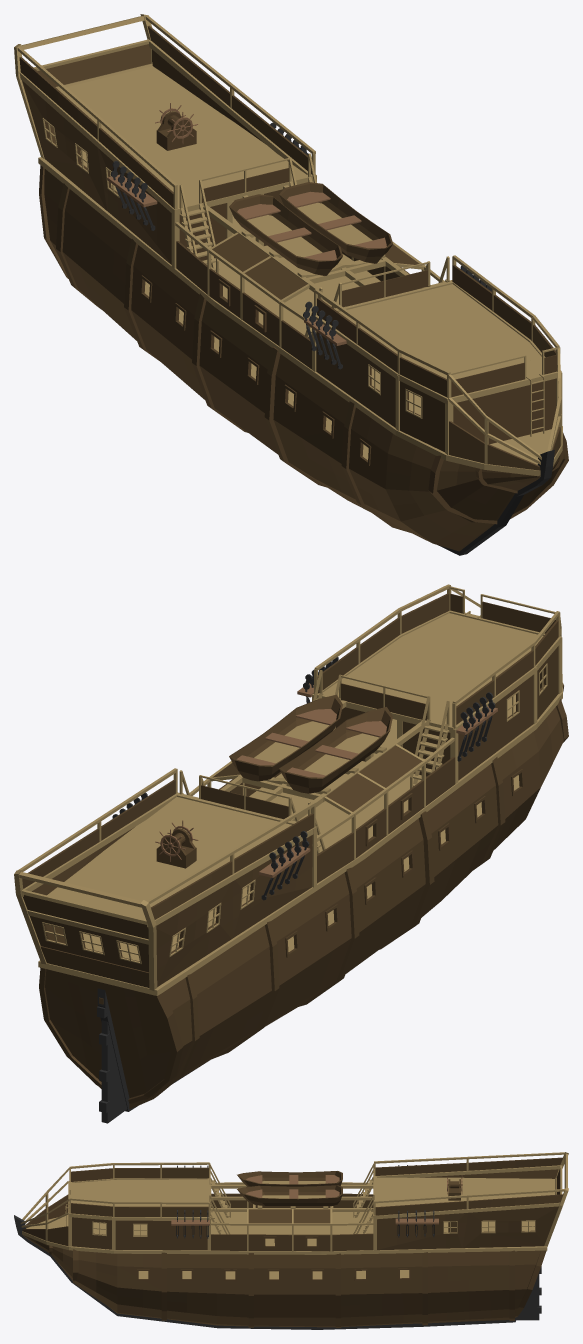
Rendered from Ship base destruction 1.fbx.
3 renders of one model, top to bottom at view 1: azimuth 30°, elevation 25°; view 2: azimuth 150°, elevation 25°; view 3: azimuth 270°, elevation 25°, orthographic. The views are drawn at different scales.
Visible parts, largest first — view 1: Ship_5, Ship_3.003, Ship_2.001, Ship_1.001, Ship_2.003, Ship_4.002, Ship_1, Ship_5.001, Ship_4.003, Ship_3.002, Ship_3.001, Ship_5.002 (+3 smaller); view 2: Ship_1.001, Ship_3.003, Ship_2.001, Ship_4.002, Ship_1, Ship_2.003, Ship_4.003, Ship_3.002, Ship_5.001, Ship_5, Ship_1.002, Ship_3.001 (+3 smaller); view 3: Ship_3.003, Ship_2.001, Ship_1.001, Ship_4.002, Ship_5, Ship_2.003, Ship_3.002, Ship_5.001, Ship_1, Ship_4.003, Ship_1.002, Ship_5.002 (+5 smaller).
Part boxes in pixels (left/top/right/bottom): Ship_5: left=364, top=309, right=568, bottom=551; Ship_3.003: left=180, top=182, right=418, bottom=497; Ship_2.001: left=94, top=95, right=311, bottom=390; Ship_1.001: left=19, top=25, right=230, bottom=316; Ship_2.003: left=96, top=84, right=316, bottom=336; Ship_4.002: left=300, top=265, right=513, bottom=532; Ship_1: left=14, top=14, right=246, bottom=209; Ship_5.001: left=369, top=300, right=562, bottom=476; Ship_4.003: left=310, top=255, right=514, bottom=459; Ship_3.002: left=184, top=203, right=444, bottom=406; Ship_3.001: left=237, top=191, right=386, bottom=260; Ship_5.002: left=438, top=450, right=554, bottom=555; Ship_1.001: left=22, top=828, right=234, bottom=1108; Ship_3.003: left=213, top=694, right=456, bottom=1012; Ship_2.001: left=100, top=780, right=338, bottom=1071; Ship_4.002: left=317, top=632, right=523, bottom=900; Ship_1: left=14, top=818, right=250, bottom=995; Ship_2.003: left=94, top=768, right=354, bottom=951; Ship_4.003: left=312, top=623, right=519, bottom=844; Ship_3.002: left=207, top=700, right=461, bottom=925; Ship_5.001: left=373, top=584, right=562, bottom=790; Ship_5: left=378, top=593, right=568, bottom=839; Ship_1.002: left=97, top=988, right=204, bottom=1123; Ship_3.001: left=236, top=709, right=386, bottom=777; Ship_3.003: left=211, top=1171, right=360, bottom=1327; Ship_2.001: left=352, top=1162, right=468, bottom=1326; Ship_1.001: left=462, top=1157, right=563, bottom=1321; Ship_4.002: left=131, top=1167, right=216, bottom=1325; Ship_5: left=22, top=1168, right=142, bottom=1316; Ship_2.003: left=332, top=1157, right=476, bottom=1278; Ship_3.002: left=205, top=1181, right=360, bottom=1279; Ship_5.001: left=20, top=1163, right=145, bottom=1278; Ship_1: left=449, top=1152, right=568, bottom=1251; Ship_4.003: left=133, top=1162, right=224, bottom=1278; Ship_1.002: left=420, top=1266, right=541, bottom=1326; Ship_5.002: left=14, top=1215, right=217, bottom=1328.
Size of the model in its own units: 6.45 by 9.68 by 30.63.
